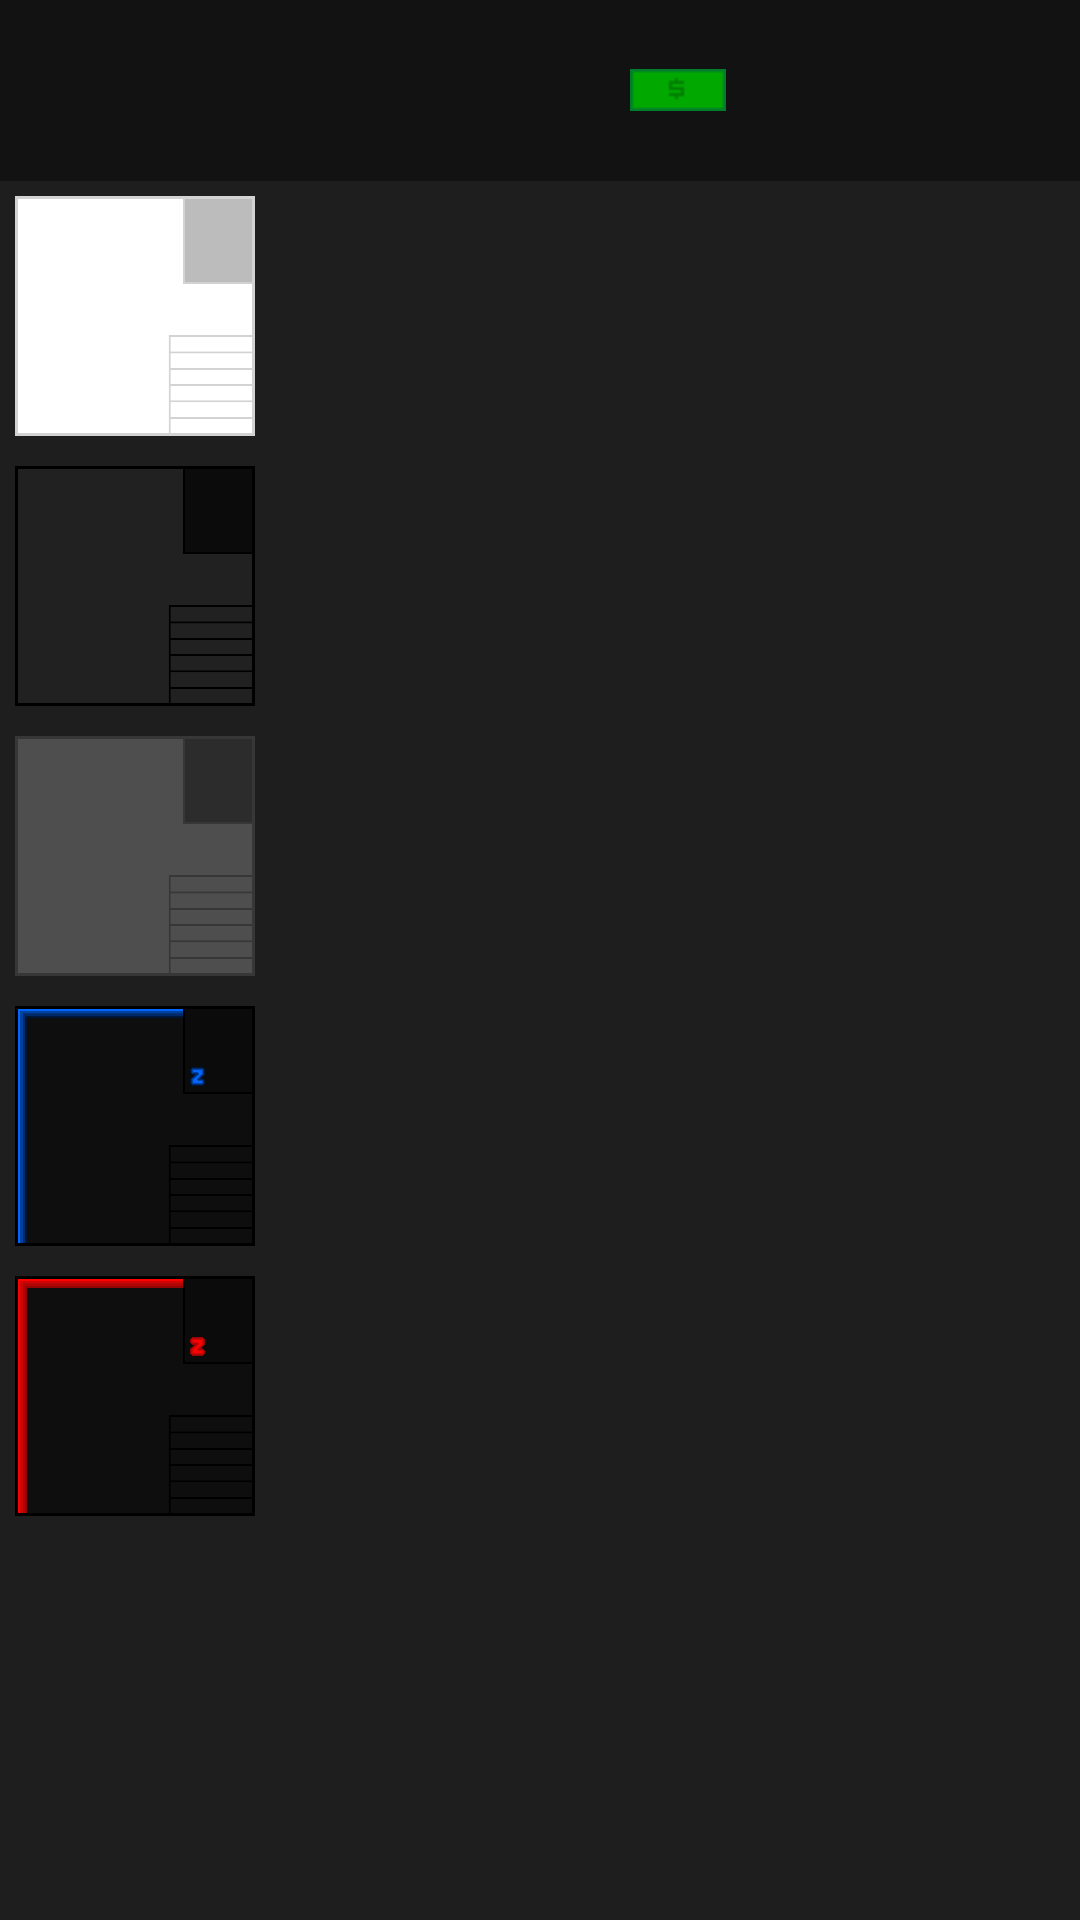

Icons on this 1080px×1920px Android screen, each with the point to tap as point (x, y):
case: point (135, 316), point (135, 586), point (135, 856)
